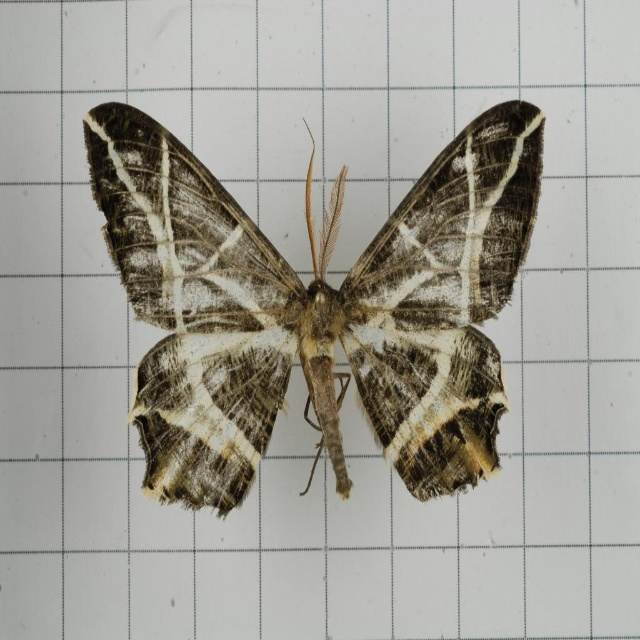Butterfly: (80, 99, 548, 521)
